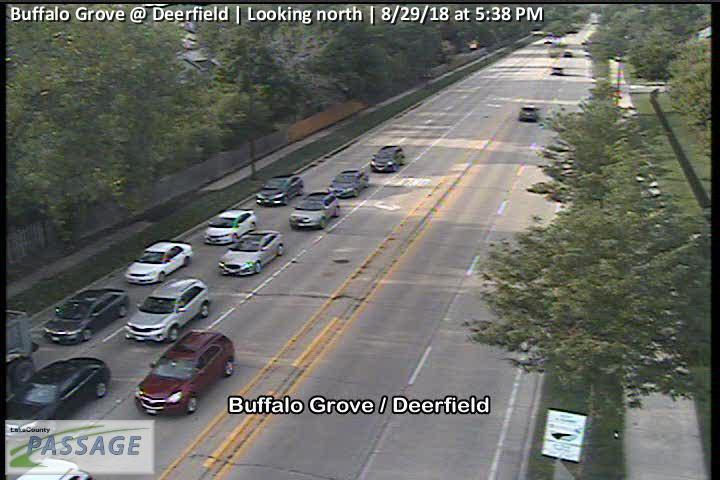SUV: (134, 330, 235, 417), (124, 278, 210, 345), (288, 189, 340, 231), (370, 144, 405, 173), (519, 104, 539, 121)
Sedan: (1, 357, 111, 439), (41, 288, 129, 345), (124, 240, 193, 285), (219, 229, 285, 276), (204, 208, 257, 245), (256, 174, 304, 207), (327, 169, 369, 199)
